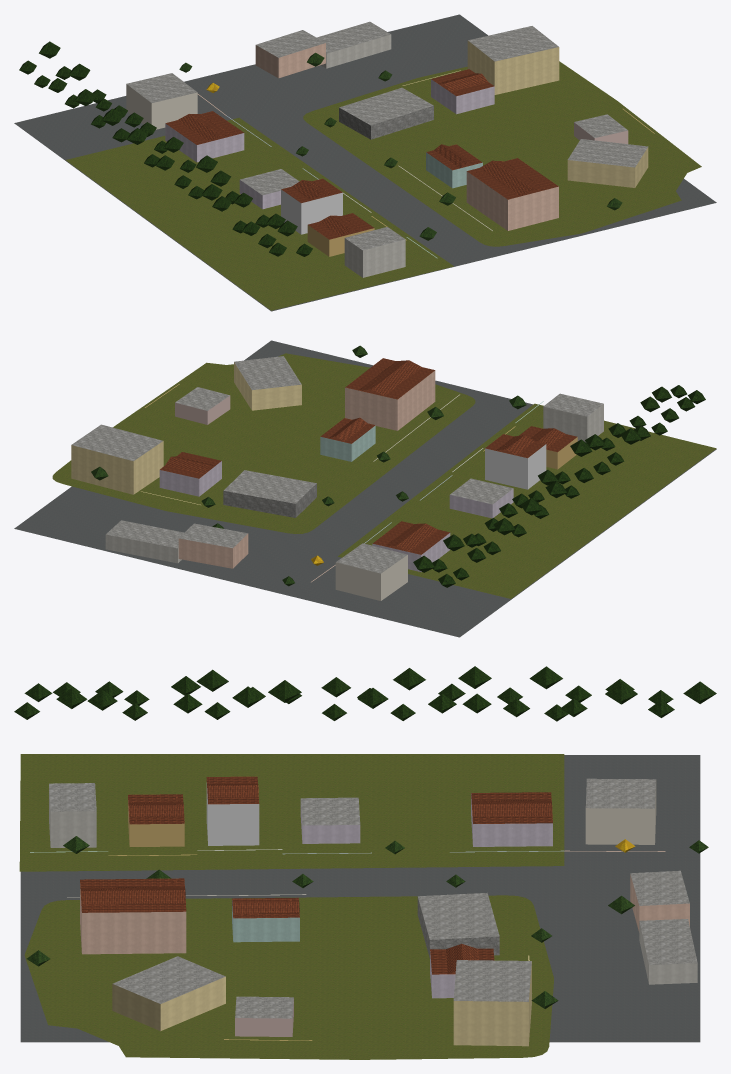
File: cidade_S00_06_lod.gltf
3 views of the same model, one above another, from view 1: azimuth 30°, elevation 25°; view 2: azimuth 150°, elevation 25°; view 3: azimuth 270°, elevation 25° (orthographic). The views are drawn at different scales.
Visible parts, largest first — view 1: S00_06_Chao_LOD2, S00_06_Edificios_LOD1, S00_06_Silhueta_LOD2, S00_06_Vegetacao_LOD2; view 2: S00_06_Chao_LOD2, S00_06_Edificios_LOD1, S00_06_Silhueta_LOD2, S00_06_Vegetacao_LOD2; view 3: S00_06_Chao_LOD2, S00_06_Edificios_LOD1, S00_06_Silhueta_LOD2, S00_06_Vegetacao_LOD2.
Boxes of the visible parts, x1,y1,x2,y2 form: S00_06_Chao_LOD2: (14, 14, 716, 311); S00_06_Edificios_LOD1: (126, 21, 654, 277); S00_06_Silhueta_LOD2: (165, 69, 558, 256); S00_06_Vegetacao_LOD2: (19, 41, 622, 256); S00_06_Chao_LOD2: (14, 340, 716, 637); S00_06_Edificios_LOD1: (71, 356, 603, 600); S00_06_Silhueta_LOD2: (159, 358, 577, 572); S00_06_Vegetacao_LOD2: (91, 345, 705, 587); S00_06_Chao_LOD2: (19, 754, 700, 1059); S00_06_Edificios_LOD1: (30, 778, 697, 1046); S00_06_Silhueta_LOD2: (80, 776, 552, 998); S00_06_Vegetacao_LOD2: (14, 666, 716, 1008).
Bounding box in the file's own units: 107 × 15.94 × 103.
Materials: 17 (17 with a texture image).
